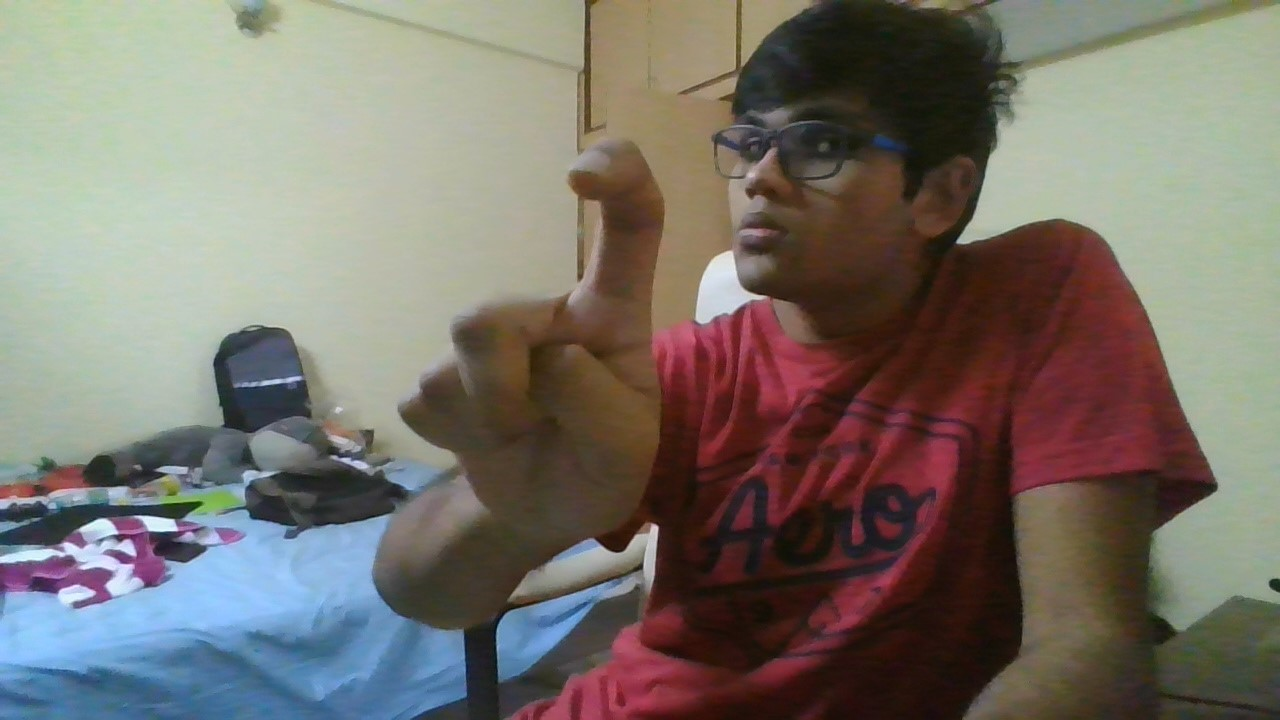x: (391, 136, 671, 538)
